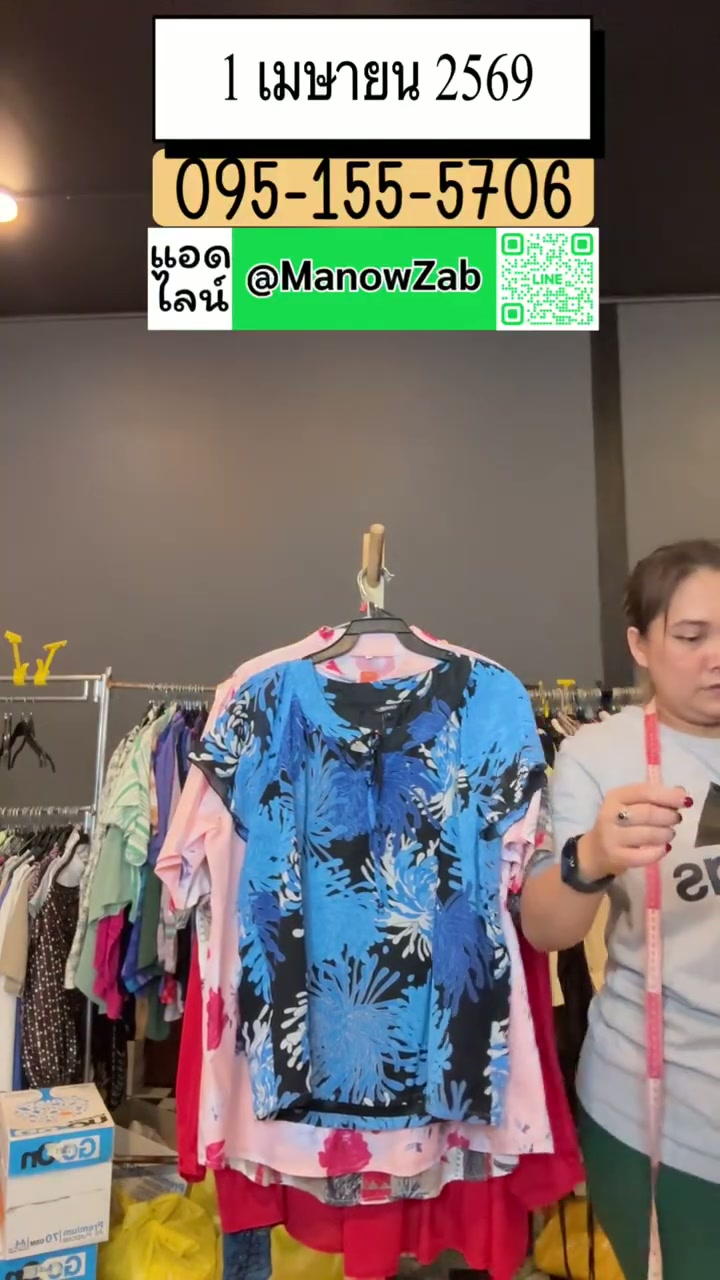display_shirt: (191, 655, 543, 1133)
